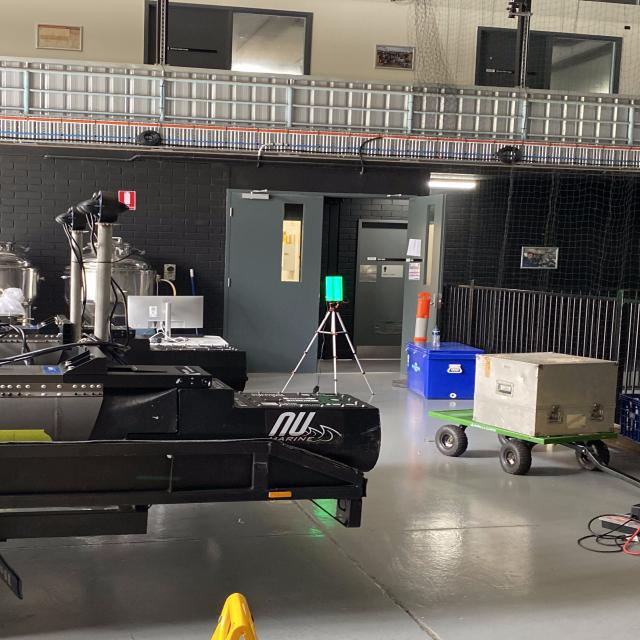matrix: (322, 276, 347, 306)
